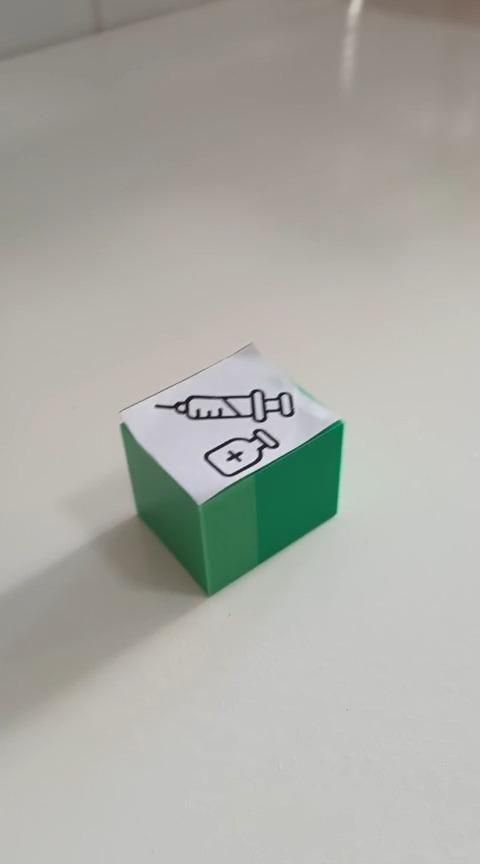antiseptic cream: (116, 340, 345, 597)
